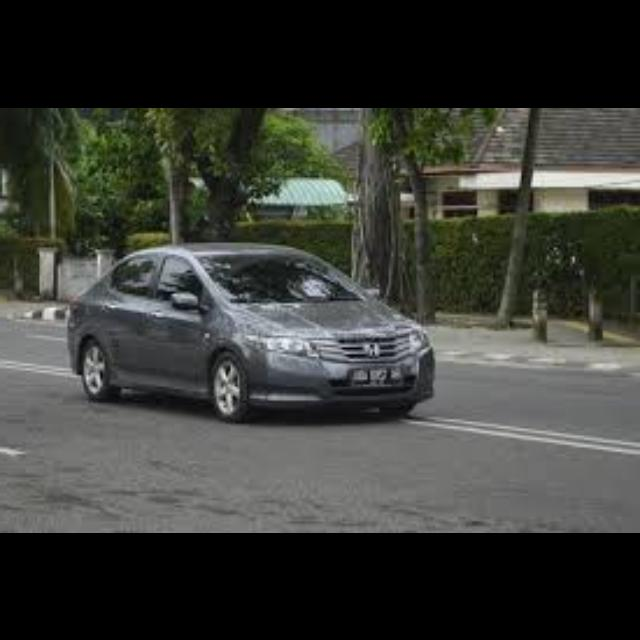vehicles: (70, 237, 442, 421)
